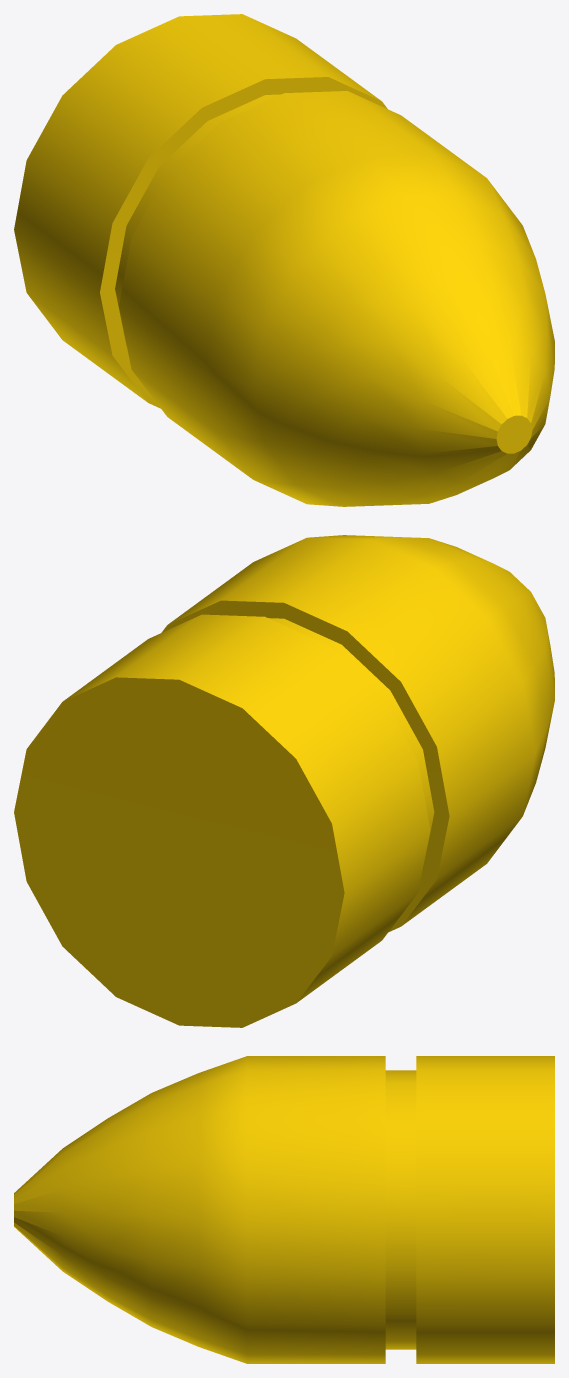
File: Bullet.fbx
3 views of the same model, one above another, from view 1: azimuth 30°, elevation 25°; view 2: azimuth 150°, elevation 25°; view 3: azimuth 270°, elevation 25° (orthographic). The views are drawn at different scales.
Parts seen in each view (by area): view 1: Bullet; view 2: Bullet; view 3: Bullet.
Part boxes in pixels (x1,y1,x2,y2): Bullet: (14, 14, 554, 506); Bullet: (14, 535, 554, 1027); Bullet: (14, 1056, 554, 1363).
Bounding box in the file's own units: 0.2226 × 0.2226 × 0.391.
Materials: 1 (1 with a texture image).
